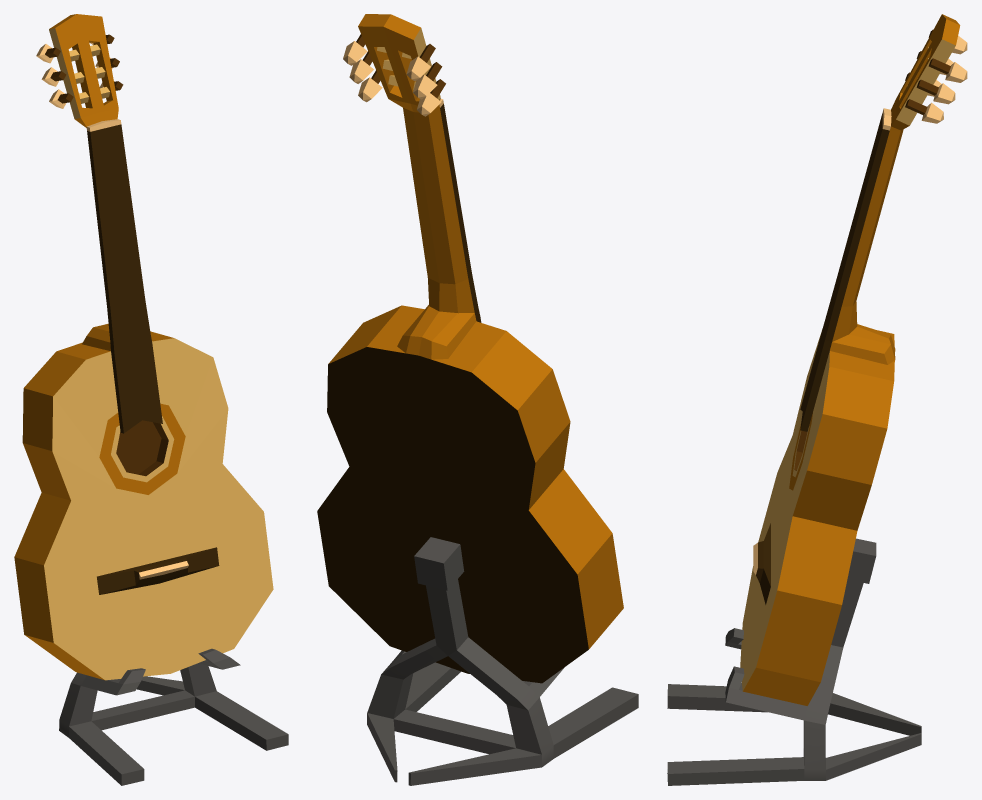
Rendered from Guitar.fbx.
3 views of the same model, side by side, from view 1: azimuth 30°, elevation 25°; view 2: azimuth 150°, elevation 25°; view 3: azimuth 270°, elevation 25° (orthographic). The views are drawn at different scales.
Visible parts, largest first — view 1: guitar-acoustic, pCube1; view 2: guitar-acoustic, pCube1; view 3: guitar-acoustic, pCube1.
Boxes of the visible parts, <box> form: guitar-acoustic: <box>14,14,273,680</box>; pCube1: <box>59,648,288,785</box>; guitar-acoustic: <box>317,14,623,683</box>; pCube1: <box>367,537,638,785</box>; guitar-acoustic: <box>740,14,967,705</box>; pCube1: <box>667,538,921,785</box>.
Bounding box in the file's own units: 37.49 × 107 × 40.42.
